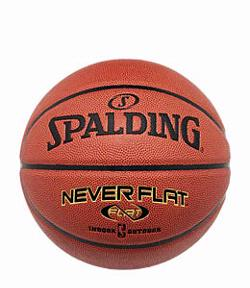basketball: (20, 59, 232, 270)
